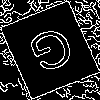G: (25, 25, 82, 83)
